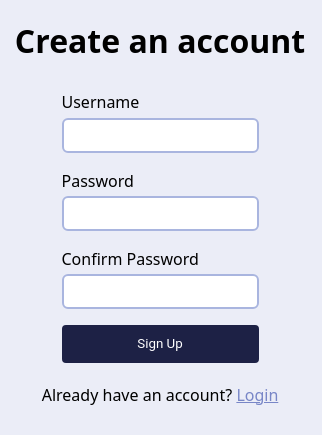
Scenario: CreateUserView › shows error if passwords do not match
The width and height of the screenshot is (322, 435).
Type "whitney" into the field labelled "Username".
click(160, 135); type("whitney")  # box [62,118,258,153]
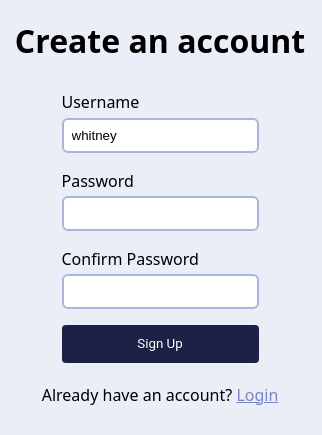
Type "password123" into the password field labelled "Password".
click(160, 213); type("password123")  # box [62,196,258,231]
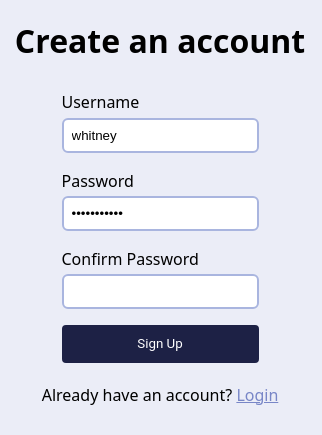
Type "different123" into the password field labelled "Confirm Password".
click(160, 292); type("different123")  # box [62,274,258,309]
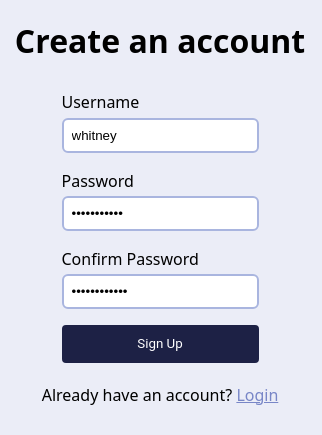
Click the button "Sign Up".
click(160, 344)  # box [62,325,258,363]
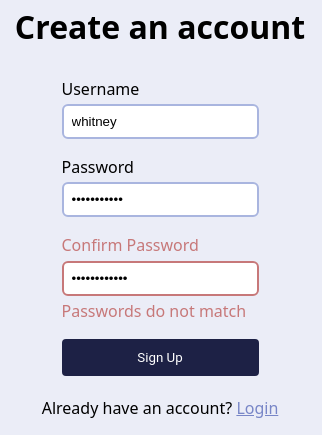
Expected: the text "Passwords do not match" is shown, [62,300,246,322]
